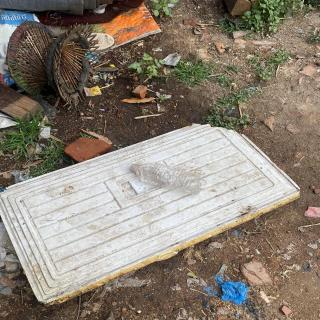Plastic-bottle: (128, 162, 211, 200)
